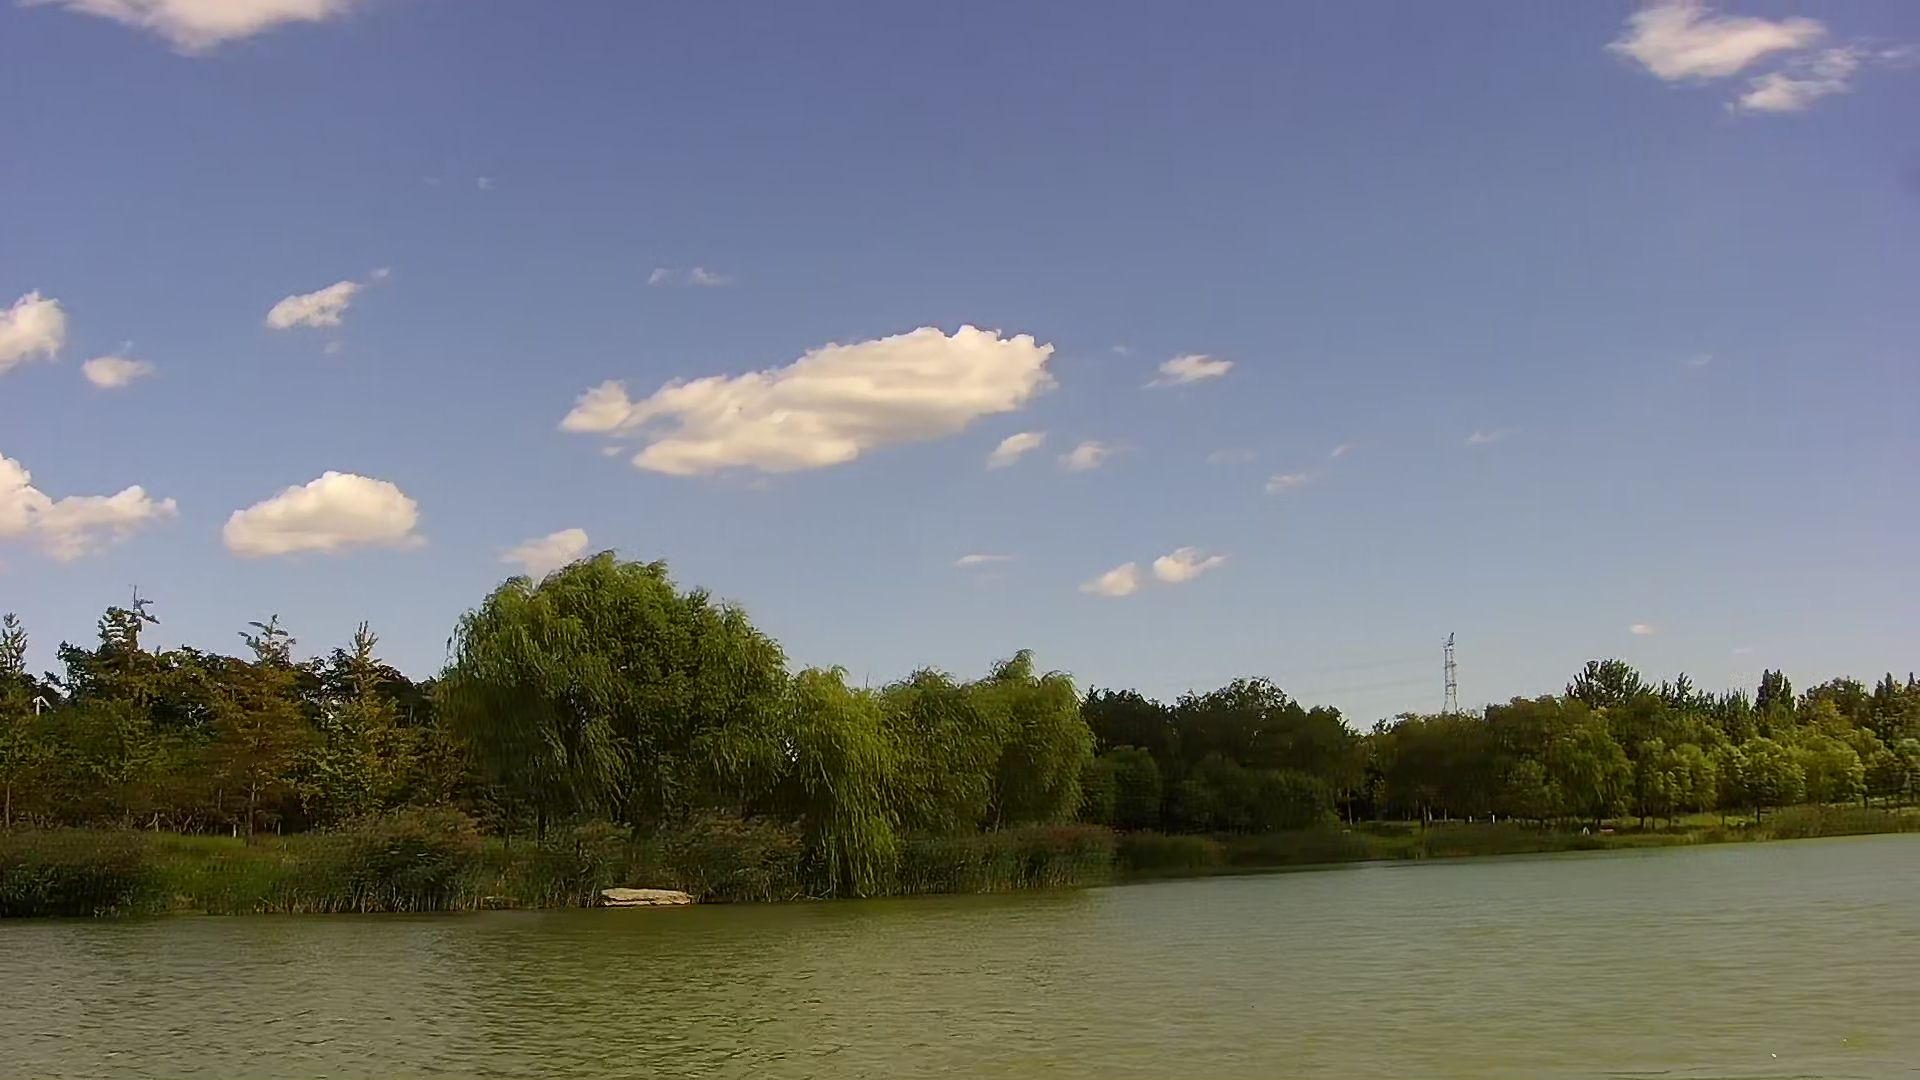rock: (604, 882, 688, 909)
